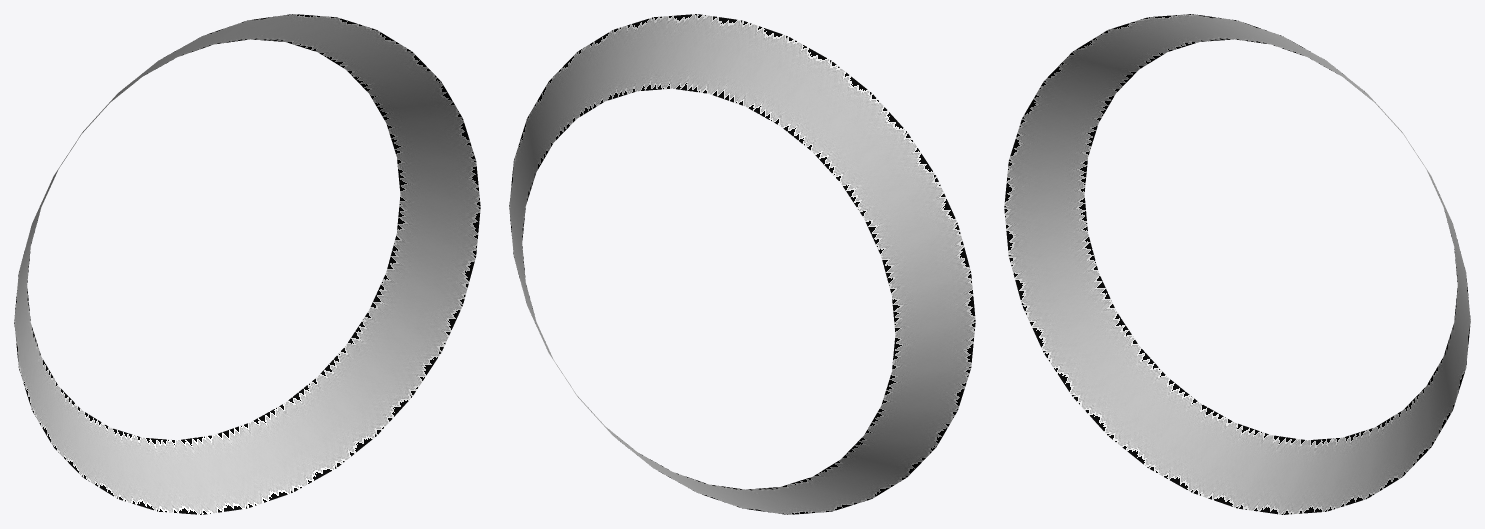
File: blast_punch_huge.obj
3 views of the same model, side by side, from view 1: azimuth 30°, elevation 25°; view 2: azimuth 150°, elevation 25°; view 3: azimuth 330°, elevation 25° (orthographic).
Size of the model in its own units: 0.8103 by 0.8103 by 0.1013.
